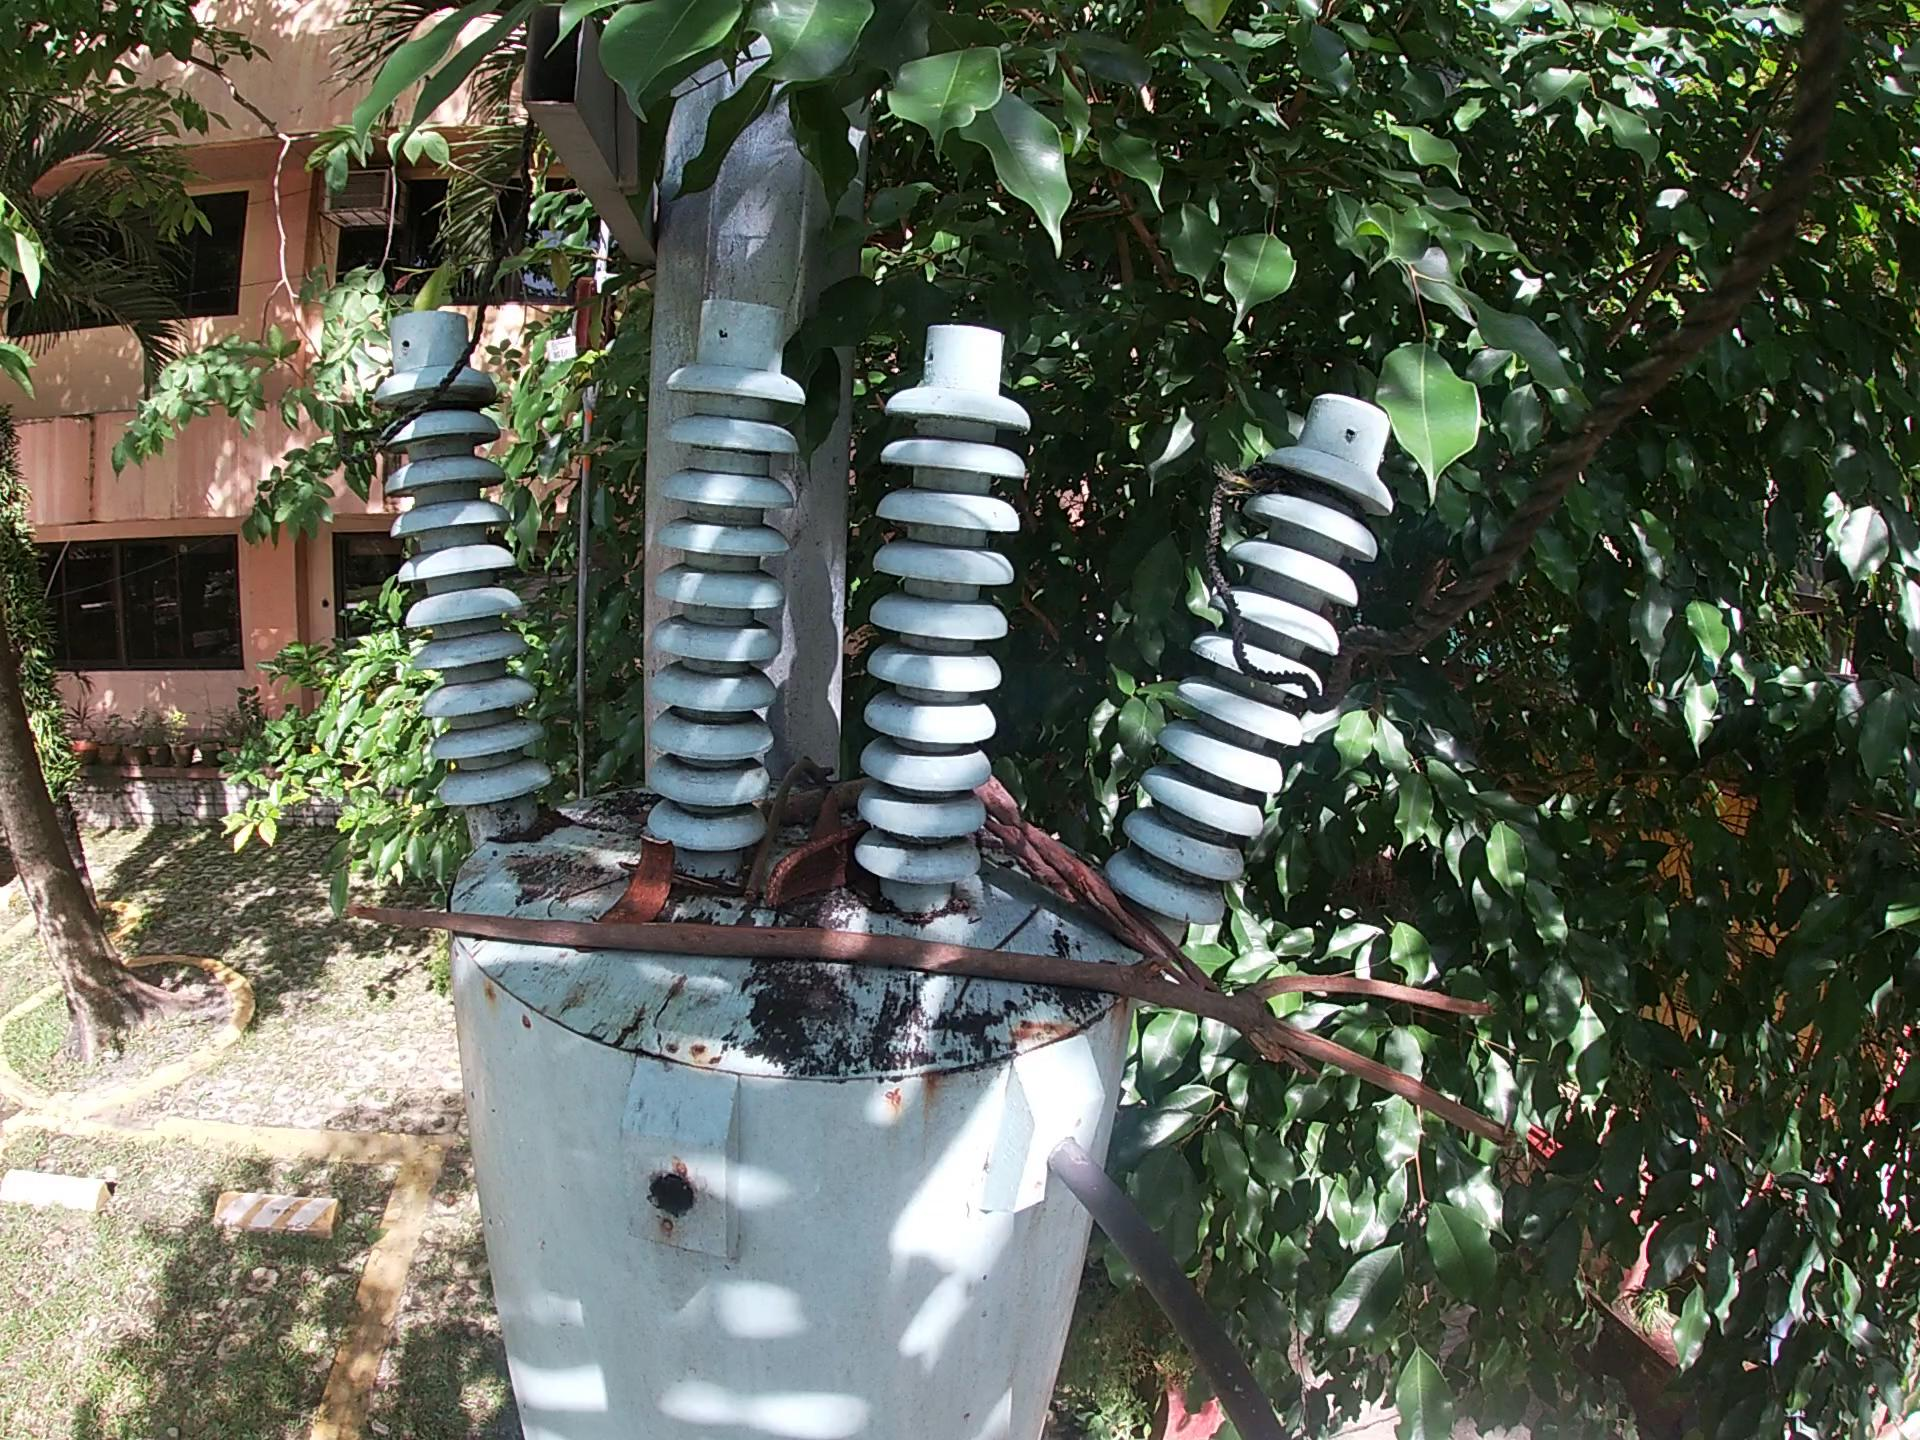leaf: (806, 784, 854, 852)
mahogany fruit: (593, 832, 685, 929), (770, 832, 868, 915)
tree branch: (343, 891, 1519, 1156), (974, 768, 1312, 1085), (732, 755, 838, 903), (751, 777, 877, 836)
